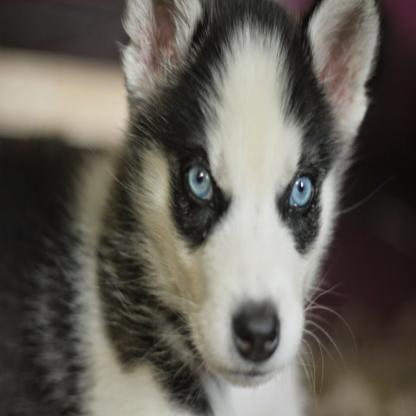husky: (0, 5, 390, 416)
